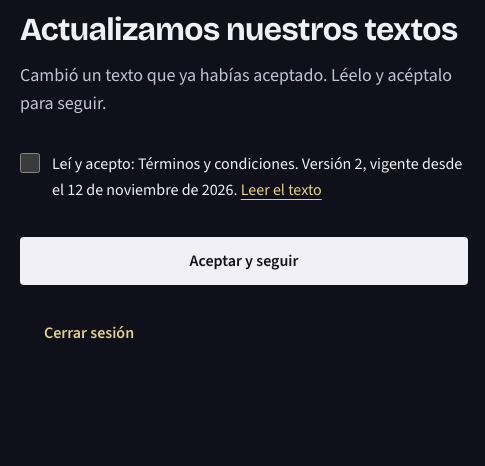
la pantalla que pide lo que le falta a la cuenta (PA-15) › el texto cambió mientras se llenaba: lo avisa, sin ser un error
The image size is (485, 466).
Click the checkbox: (30, 163) [20,153,40,173]
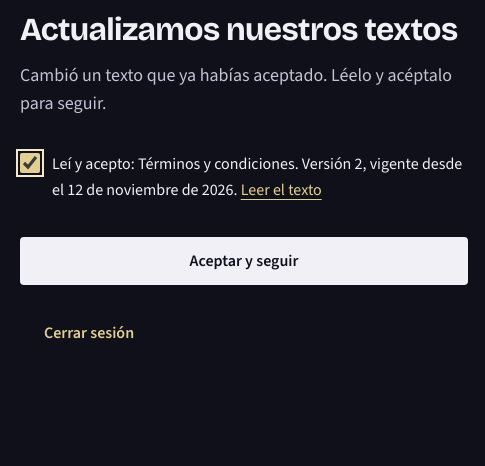
Click the button "Aceptar y seguir": (244, 261) [20,237,468,285]
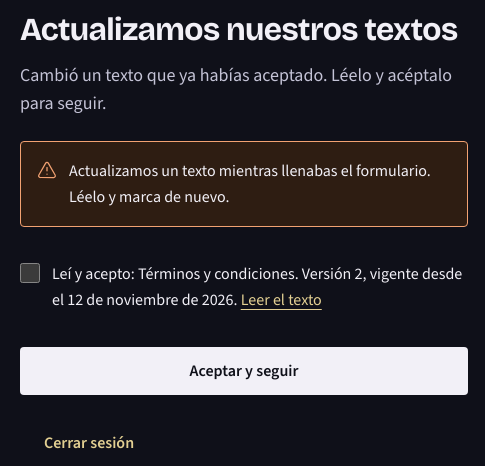
Expected: the text "Actualizamos un texto mientras llenabas el formulario. Léelo y marca de nuevo." is shown, [20,141,468,227]
Expected: the checkbox is not checked, [20,263,40,283]
